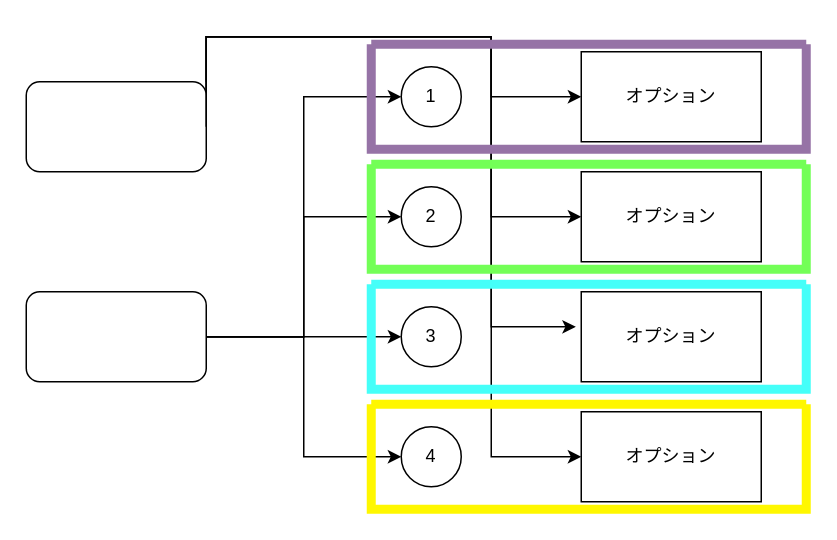
Some shapes in this 837 by 540 pixel diagram are drawn without their labels. The shapes that lost their labels are listed below. From the top down, each one's centre as x and y in pixels, then its label:
(115,126): ボタンを押す
(115,336): リアクションを押す
